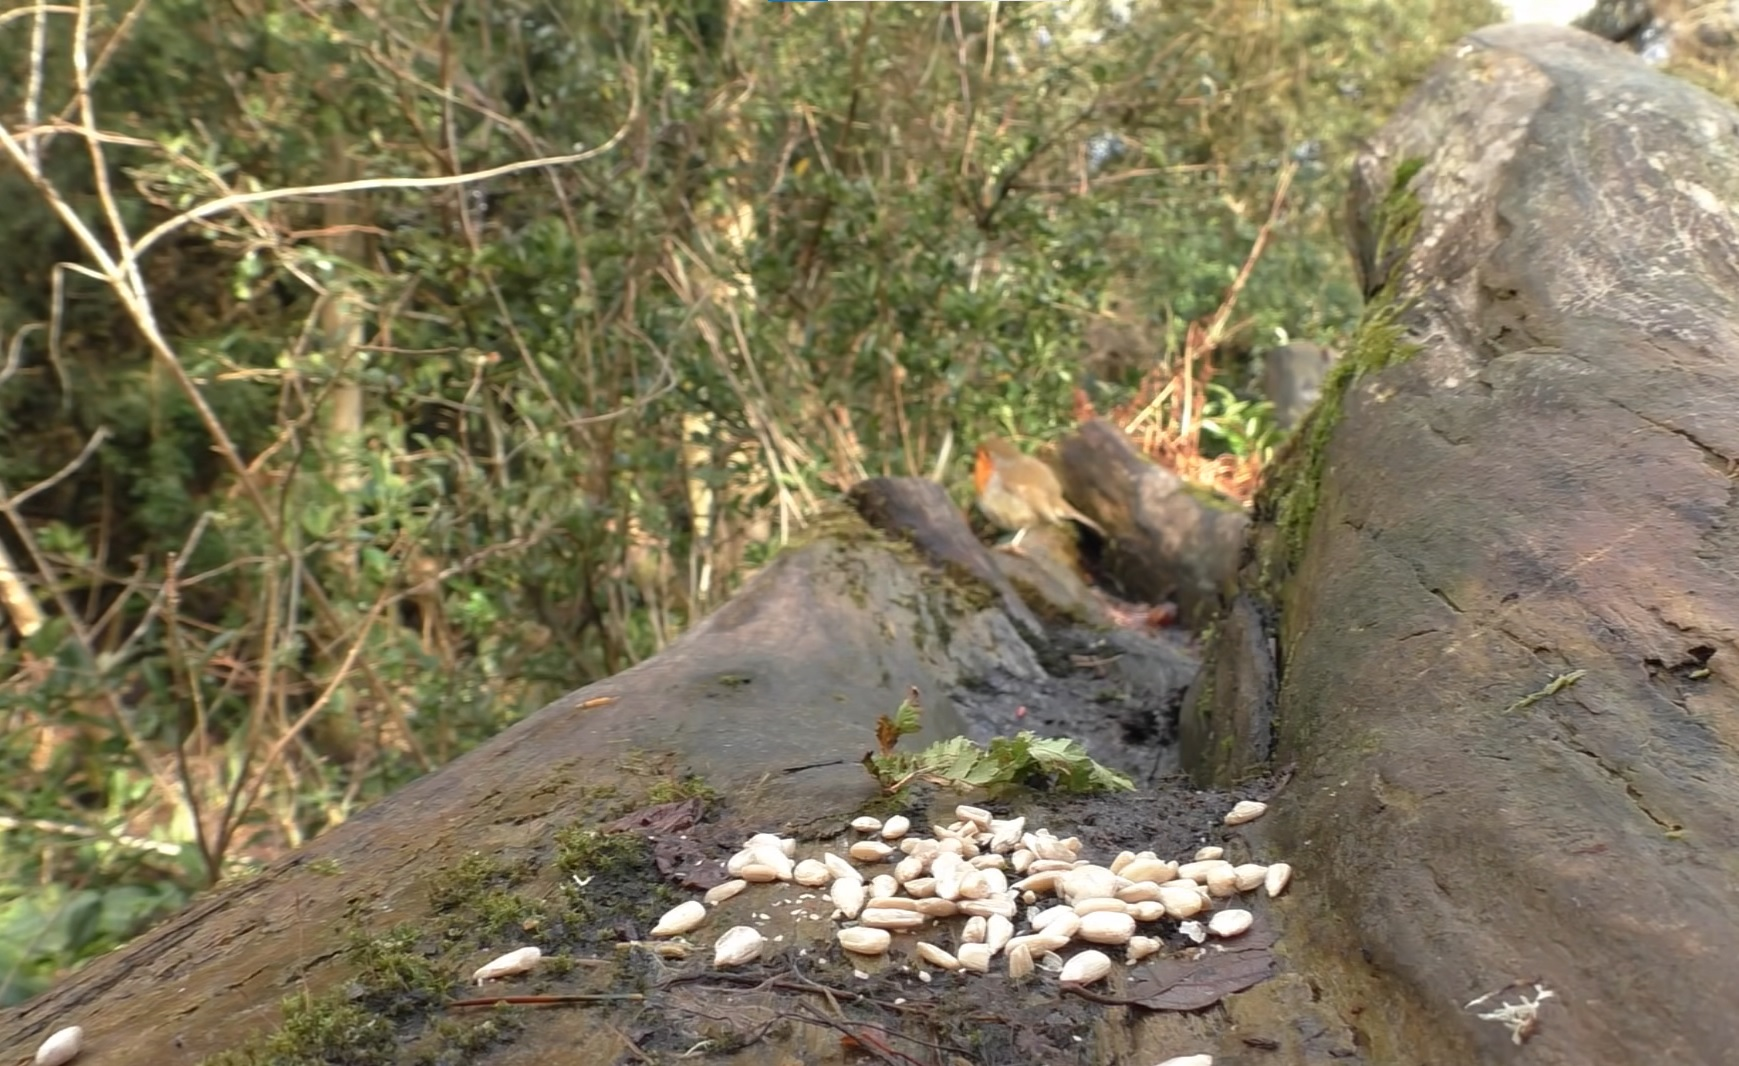seed: (637, 777, 1328, 1025)
